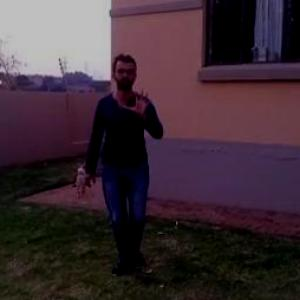follow_hand: (123, 85, 155, 119)
